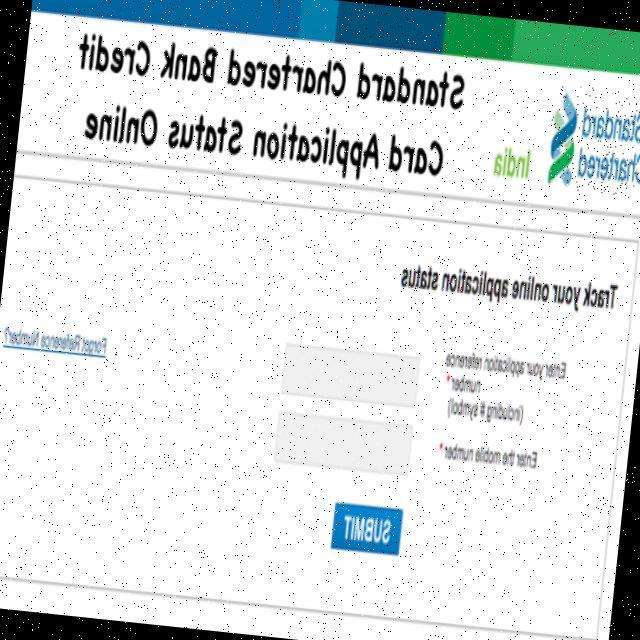Standard Chartered: (543, 83, 640, 199)
